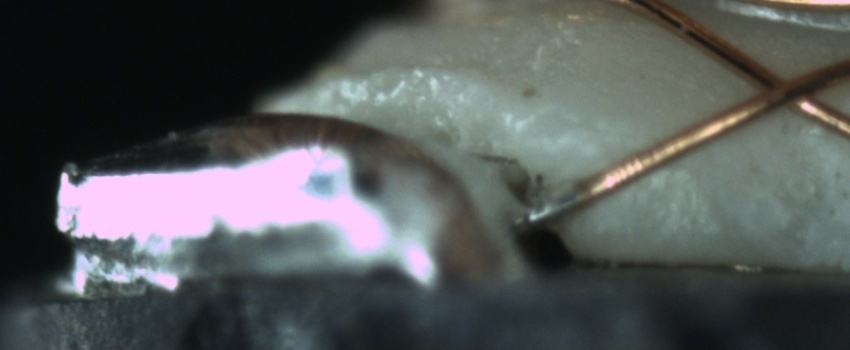CL: (739, 55, 841, 123)
TS: (519, 182, 582, 227)
TTCW: (515, 163, 607, 231)
